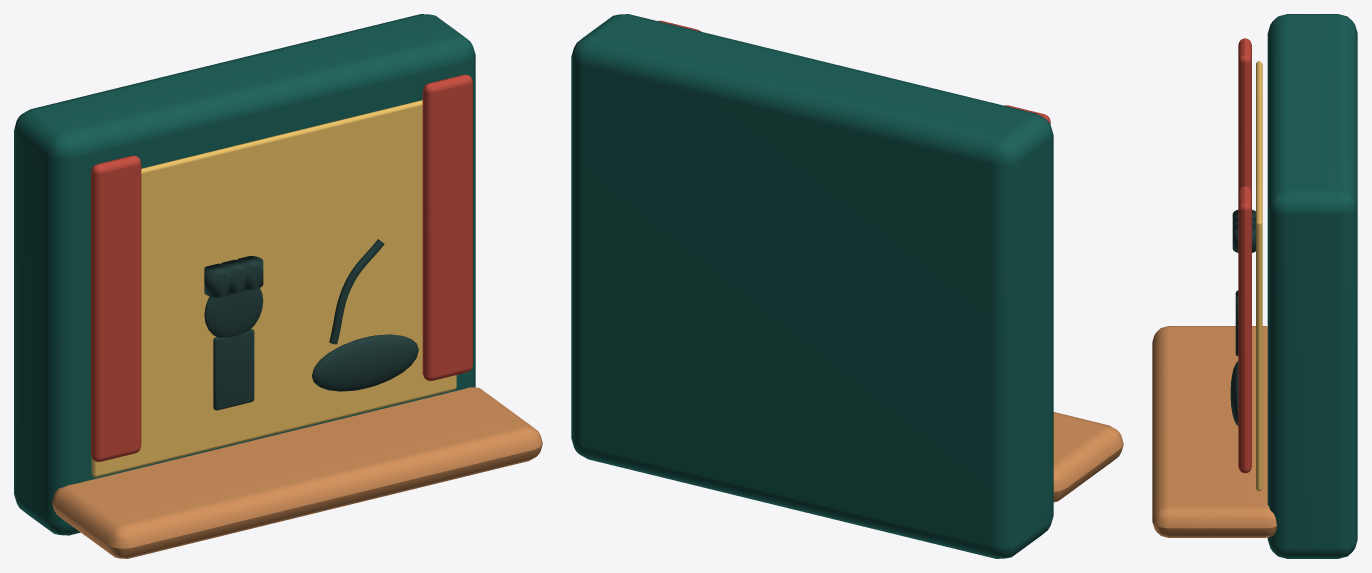
3 renders of one model, left to right at view 1: azimuth 30°, elevation 25°; view 2: azimuth 150°, elevation 25°; view 3: azimuth 270°, elevation 25°, orthographic. The views are drawn at different scales.
Parts seen in each view (by area): view 1: Shadow stage, Theatre frame, Stage lip, Velvet curtain, Shadow chef head, Noodle bowl; view 2: Theatre frame, Stage lip; view 3: Theatre frame, Stage lip, Velvet curtain, Shadow stage, Noodle bowl, Shadow chef head.
Boxes of the visible parts, x1=… form: Shadow stage: x1=91, y1=100, x2=456, y2=477; Theatre frame: x1=14, y1=14, x2=475, y2=535; Stage lip: x1=52, y1=387, x2=542, y2=558; Velvet curtain: x1=91, y1=74, x2=472, y2=461; Shadow chef head: x1=204, y1=256, x2=263, y2=410; Noodle bowl: x1=312, y1=239, x2=418, y2=391; Theatre frame: x1=571, y1=14, x2=1053, y2=558; Stage lip: x1=1053, y1=412, x2=1123, y2=502; Theatre frame: x1=1267, y1=14, x2=1357, y2=558; Stage lip: x1=1152, y1=326, x2=1276, y2=537; Velvet curtain: x1=1238, y1=38, x2=1251, y2=473; Shadow stage: x1=1256, y1=61, x2=1262, y2=491; Noodle bowl: x1=1230, y1=290, x2=1238, y2=425; Shadow chef head: x1=1232, y1=209, x2=1255, y2=252.
Bounding box in the file's own units: 0.81 × 0.72 × 0.365.
